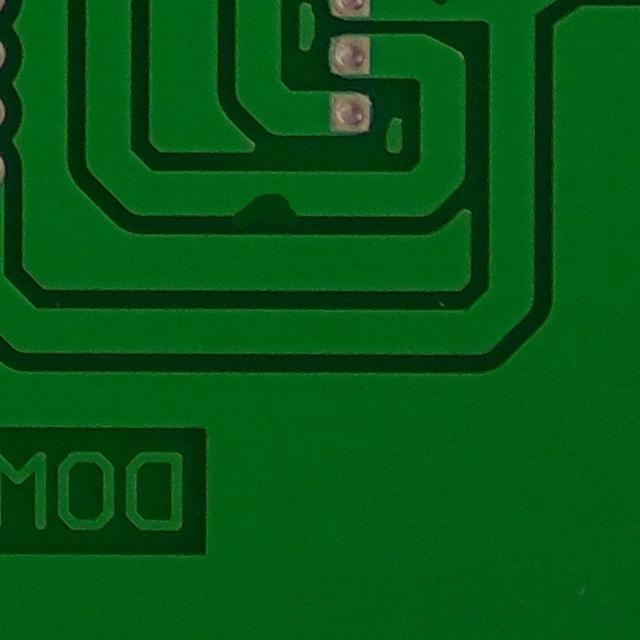mouse_bite: (222, 170, 308, 233)
